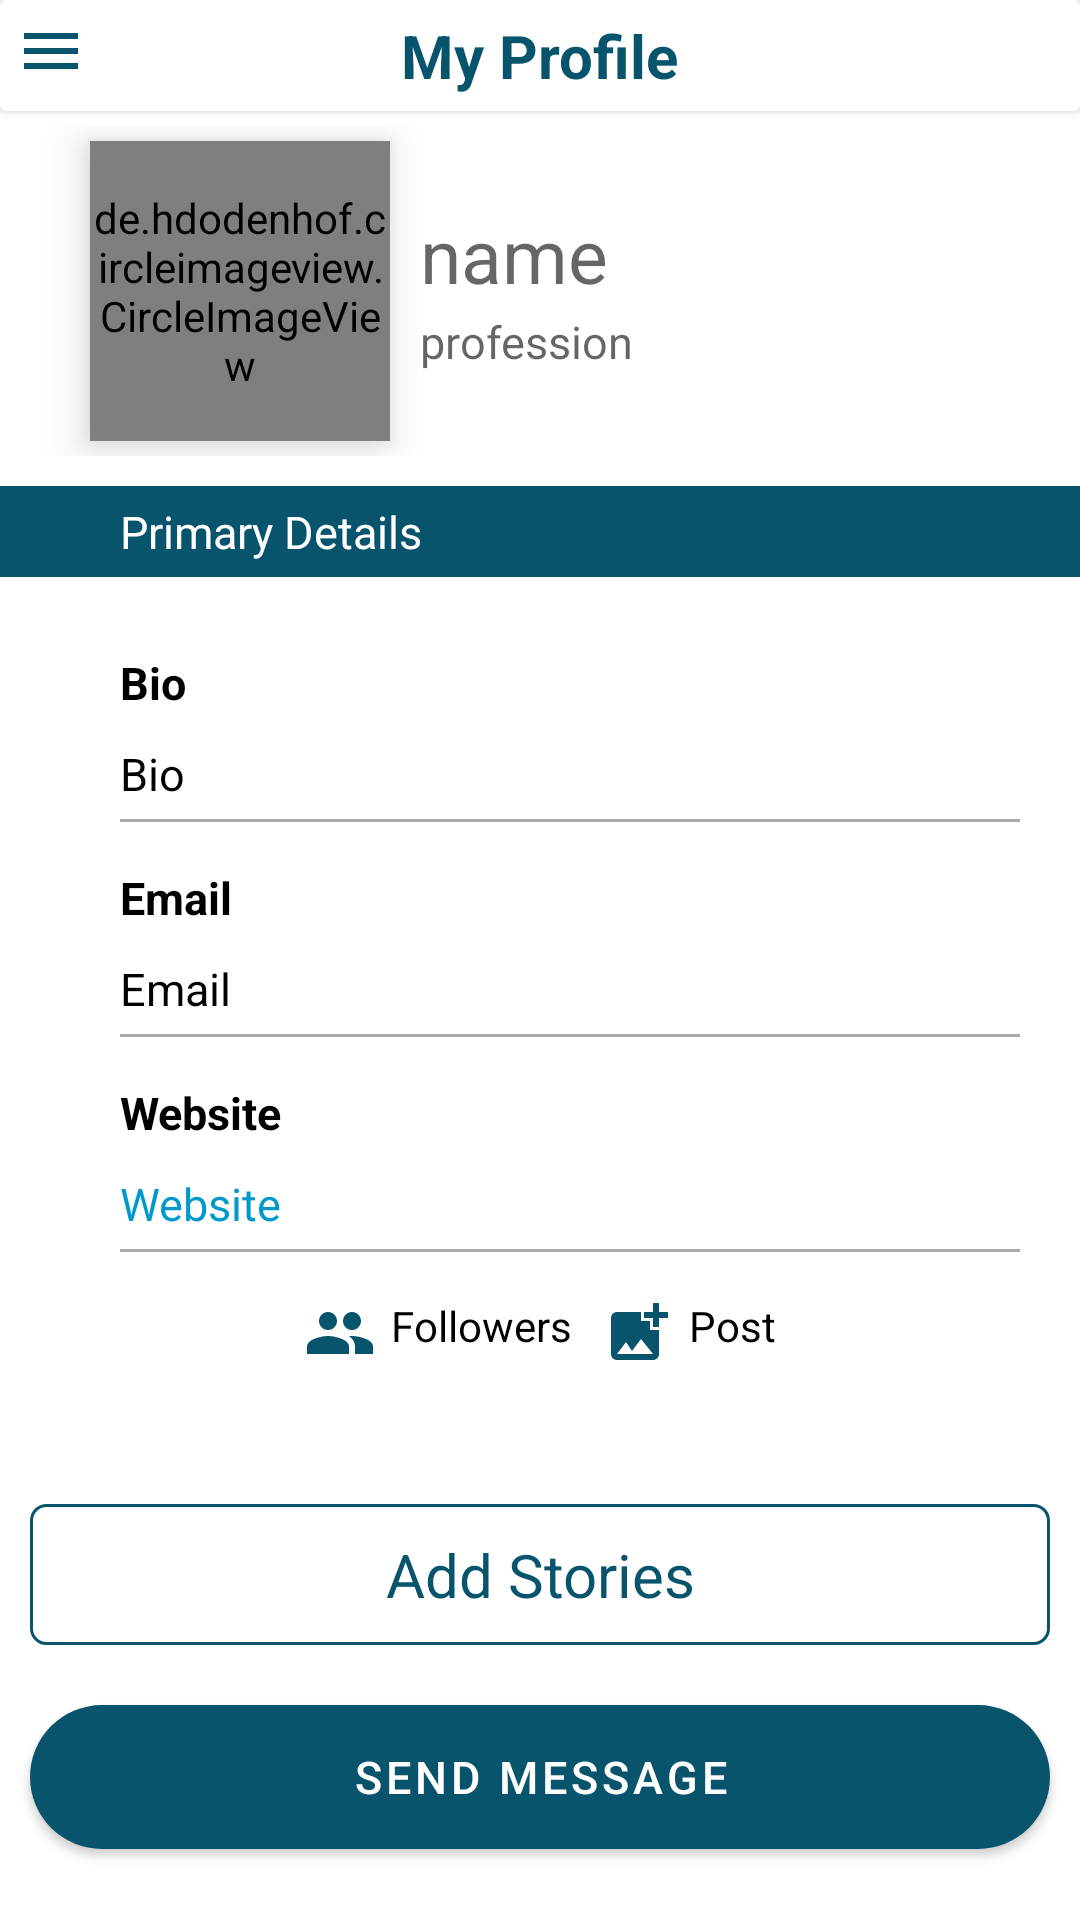

Icons on this 1080px x 1920px Android screen, each with its box as [x1=x1, y1=y1, x2=x2, y2=y2]:
menu: [x1=24, y1=33, x2=78, y2=69]
